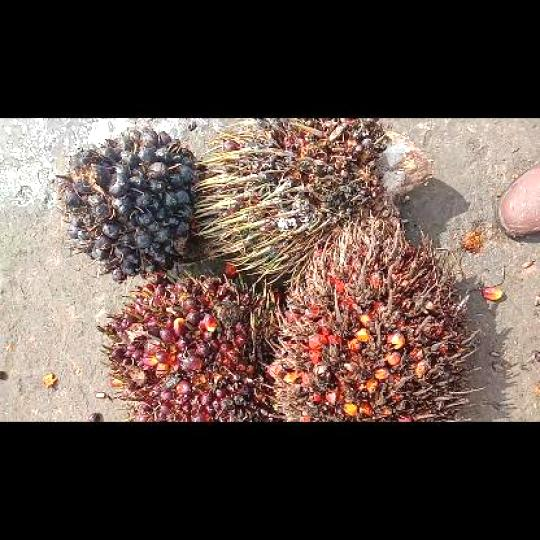masak: (101, 272, 273, 421)
terlalu masak: (267, 216, 478, 420)
